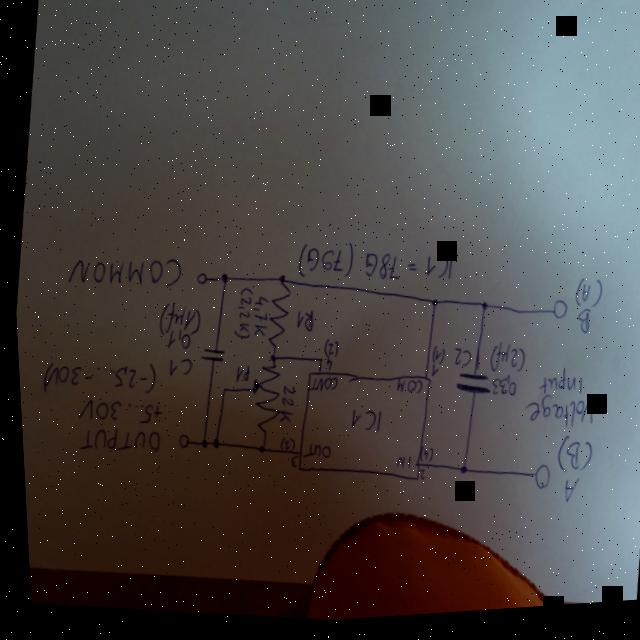capacitor: (447, 375, 488, 403), (194, 347, 223, 368)
junction: (214, 274, 227, 288), (205, 439, 216, 454), (425, 302, 436, 315), (452, 469, 463, 482), (272, 278, 286, 288), (474, 306, 485, 318), (250, 447, 261, 459), (194, 441, 204, 452), (264, 357, 274, 367), (216, 388, 223, 397), (312, 359, 319, 368)
resistor: (240, 366, 281, 441), (260, 287, 290, 355)
terminal: (524, 469, 548, 498), (544, 305, 566, 330), (170, 434, 187, 454), (190, 274, 205, 290)
text: (288, 234, 455, 301), (32, 349, 154, 407), (62, 246, 181, 297), (71, 422, 158, 468), (515, 396, 591, 442), (71, 395, 160, 432), (152, 300, 199, 344), (531, 370, 581, 409), (548, 440, 590, 484), (226, 288, 252, 345), (484, 344, 523, 381), (343, 409, 380, 441), (569, 283, 600, 319), (244, 296, 267, 342), (270, 384, 292, 425), (160, 326, 188, 355), (485, 379, 514, 405), (303, 376, 334, 400), (295, 443, 327, 466), (569, 313, 590, 345), (289, 310, 313, 337), (161, 358, 188, 382), (390, 382, 419, 402), (445, 351, 468, 375), (555, 484, 574, 513), (227, 364, 247, 388), (317, 341, 336, 364), (425, 350, 442, 372), (389, 459, 408, 478), (412, 450, 429, 470), (272, 439, 291, 456), (282, 457, 294, 473), (318, 360, 329, 376), (425, 368, 435, 383), (411, 473, 421, 487)
